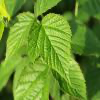Raspberry leaf: (28, 12, 72, 83)
